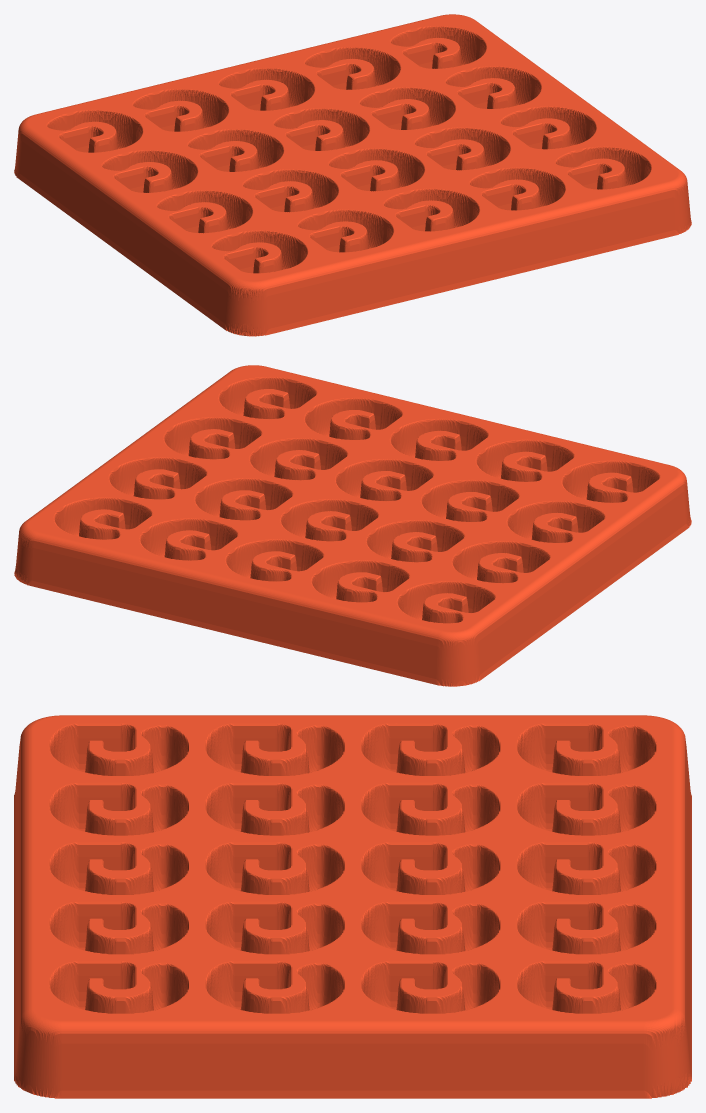
The model's file is mold.glb.
The picture shows the model from 3 angles, top to bottom: view 1: azimuth 30°, elevation 25°; view 2: azimuth 150°, elevation 25°; view 3: azimuth 270°, elevation 25°; orthographic projection. The views are drawn at different scales.
Parts seen in each view (by area): view 1: geometry_0; view 2: geometry_0; view 3: geometry_0.
Boxes of the visible parts, <box> form: geometry_0: <box>14,14,691,336</box>; geometry_0: <box>14,365,691,686</box>; geometry_0: <box>14,715,691,1098</box>.
Size of the model in its own units: 0.1428 by 0.0145 by 0.1278.
